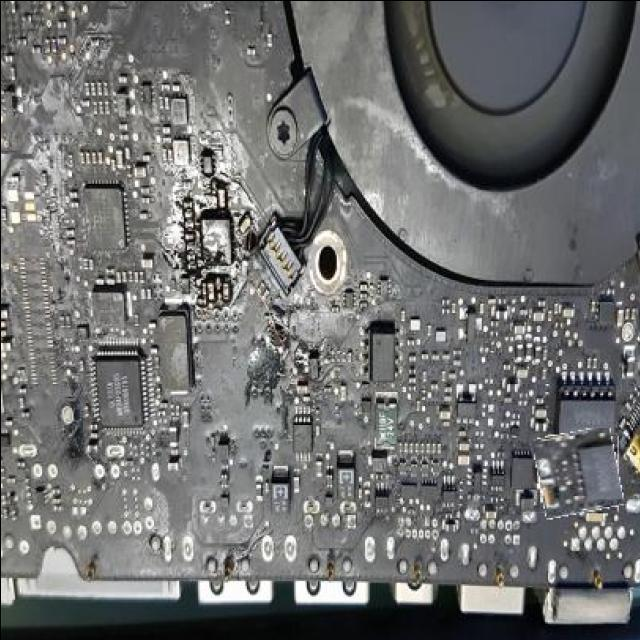Burn: (534, 428, 620, 516)
